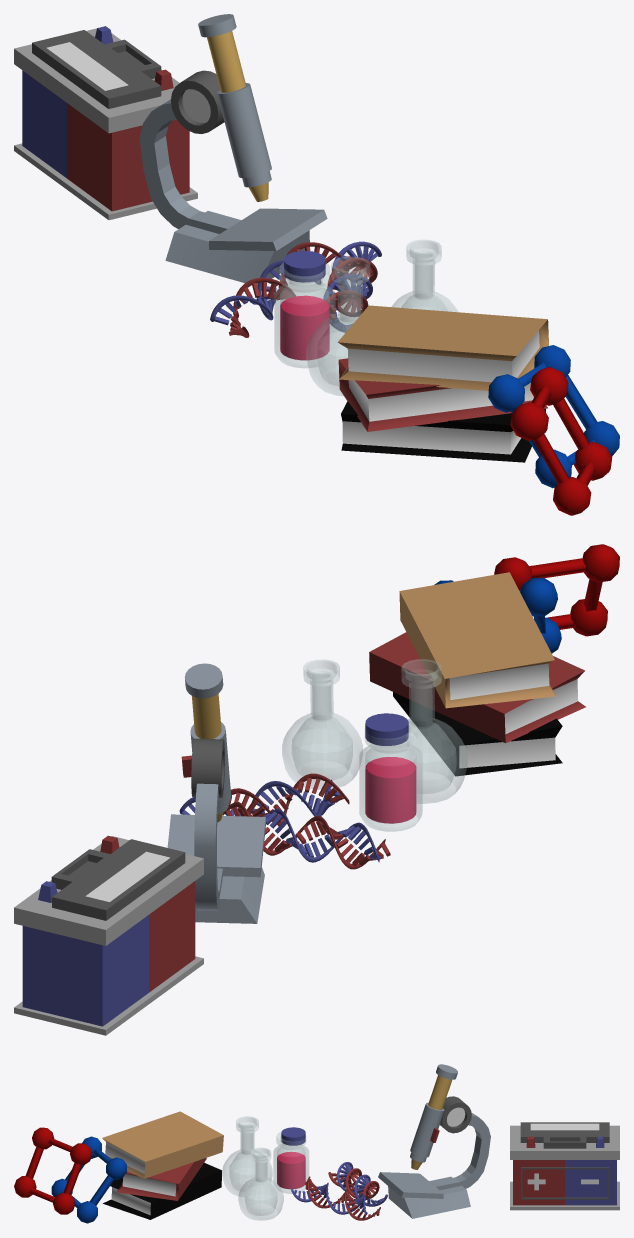
Rendered from materiel_placard_02.fbx.
3 views of the same model, one above another, from view 1: azimuth 30°, elevation 25°; view 2: azimuth 150°, elevation 25°; view 3: azimuth 270°, elevation 25° (orthographic). The views are drawn at different scales.
Parts seen in each view (by area): view 1: materiel_placard_02; view 2: materiel_placard_02; view 3: materiel_placard_02.
Part boxes in pixels (x1,y1,x2,y2): materiel_placard_02: [14, 14, 619, 515]; materiel_placard_02: [14, 544, 619, 1035]; materiel_placard_02: [14, 1064, 619, 1223].
Size of the model in its own units: 212 by 236 by 930.
